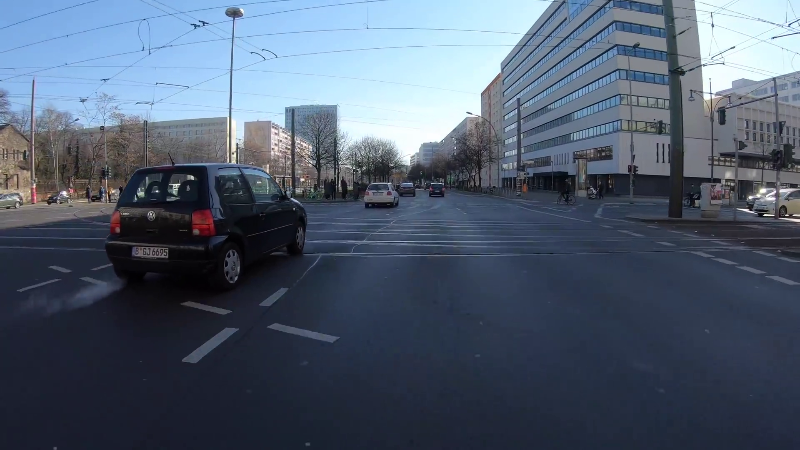Plate: (126, 244, 170, 259), (372, 191, 384, 196)
